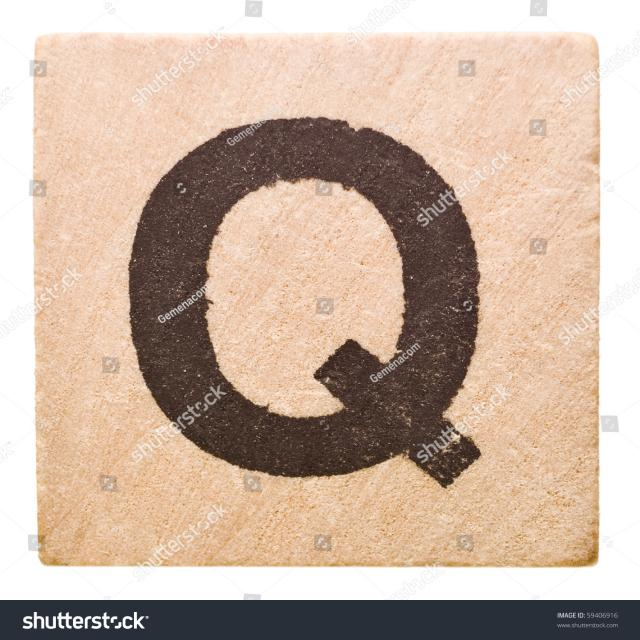Q: (77, 94, 524, 526)
